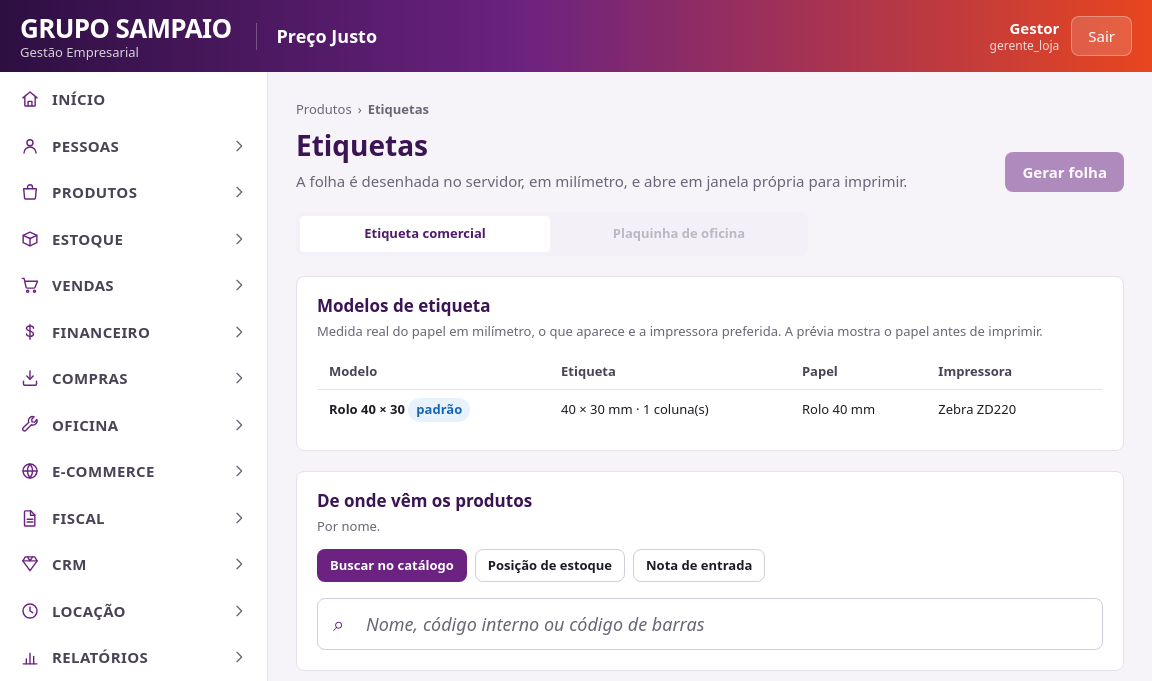
a fila e a quantidade › pelo saldo, 350 peças viram 200 etiquetas — e a tela diz que parou em 200 (C-etiquetas-09)
What coordinates should you click on to do the following:
click the button "Posição de estoque"
I would click on:
 (550, 565)
Its box is x1=475 y1=548 x2=625 y2=582.
(page scrolled)
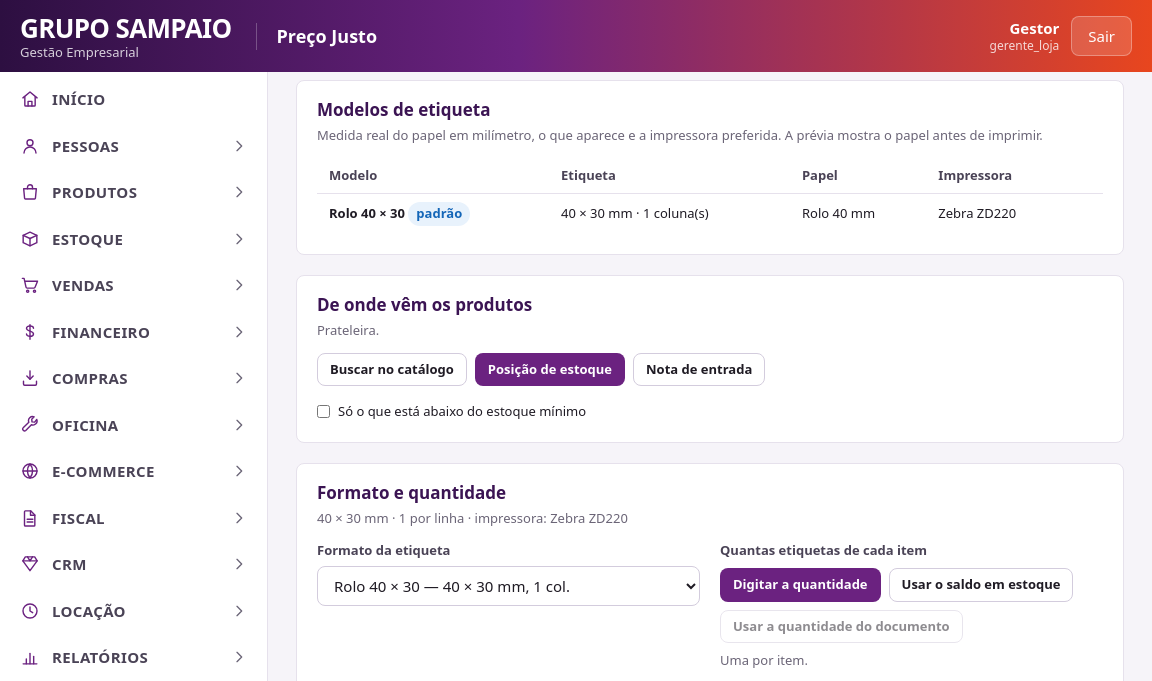
What coordinates should you click on to do the following:
click the button "Usar o saldo em estoque"
I would click on:
 (981, 585)
Its box is x1=889 y1=568 x2=1074 y2=602.
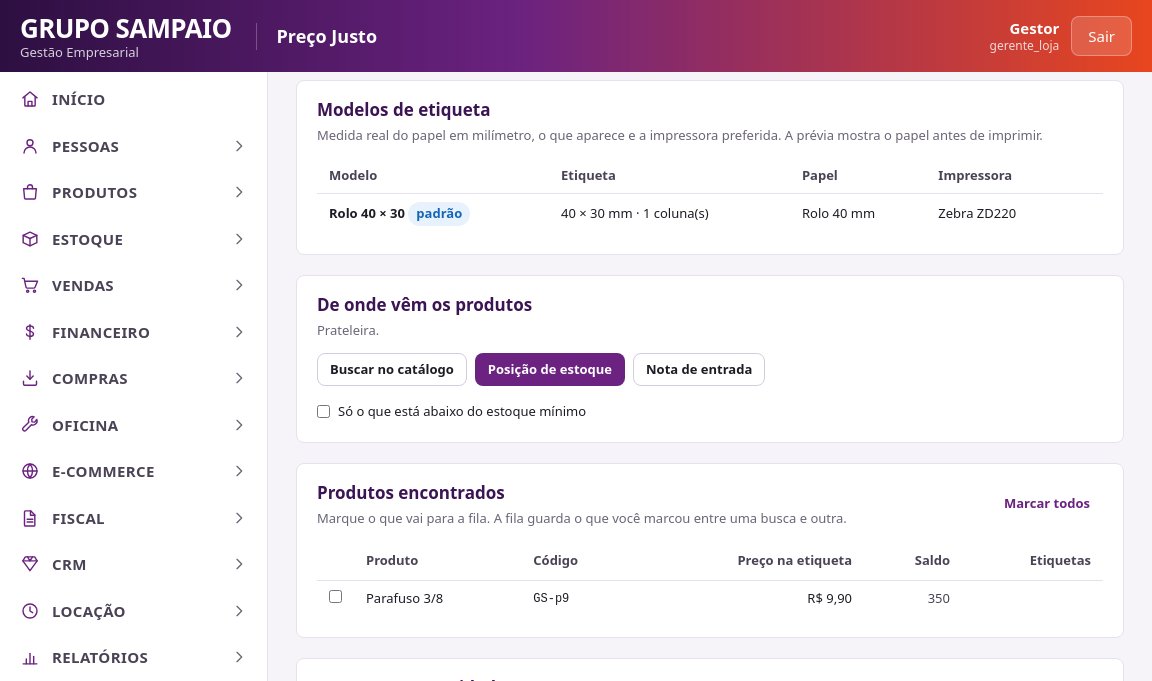
What coordinates should you click on to do the following:
click the checkbox named "Selecionar Parafuso 3/8"
I would click on:
 (336, 596)
Its box is x1=329 y1=590 x2=342 y2=603.
(page scrolled)
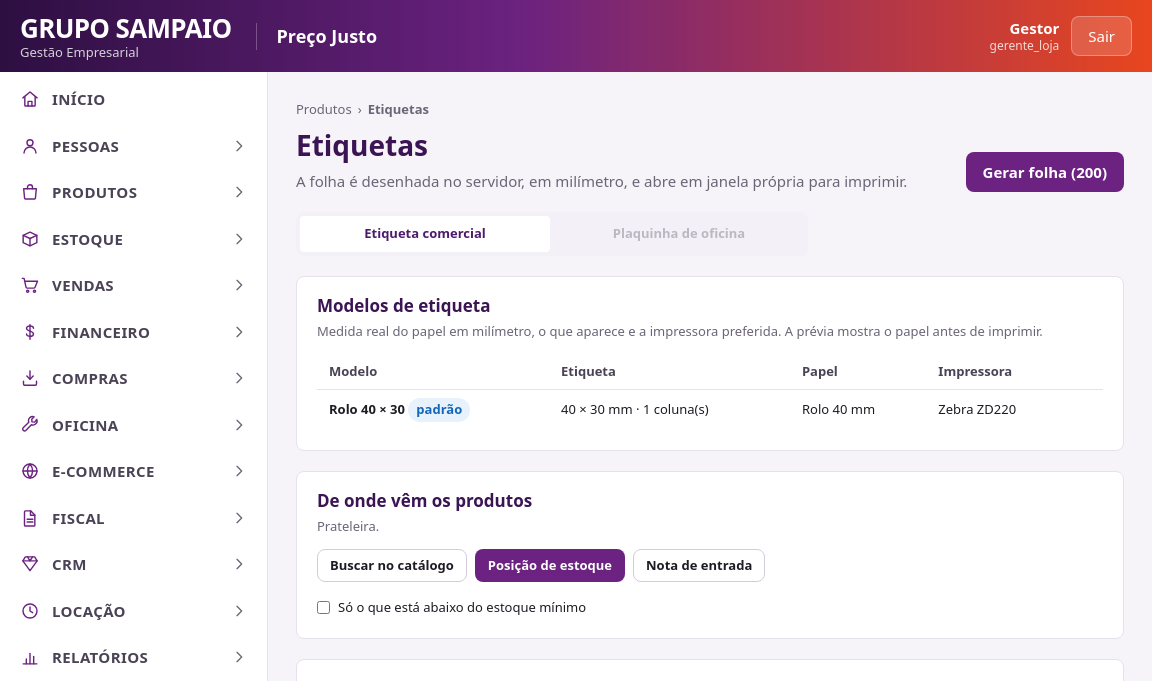
Expected: the button "Gerar folha (200)" is shown, x1=966 y1=152 x2=1124 y2=192
